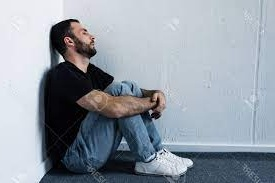not_fallen: (44, 16, 190, 182)
